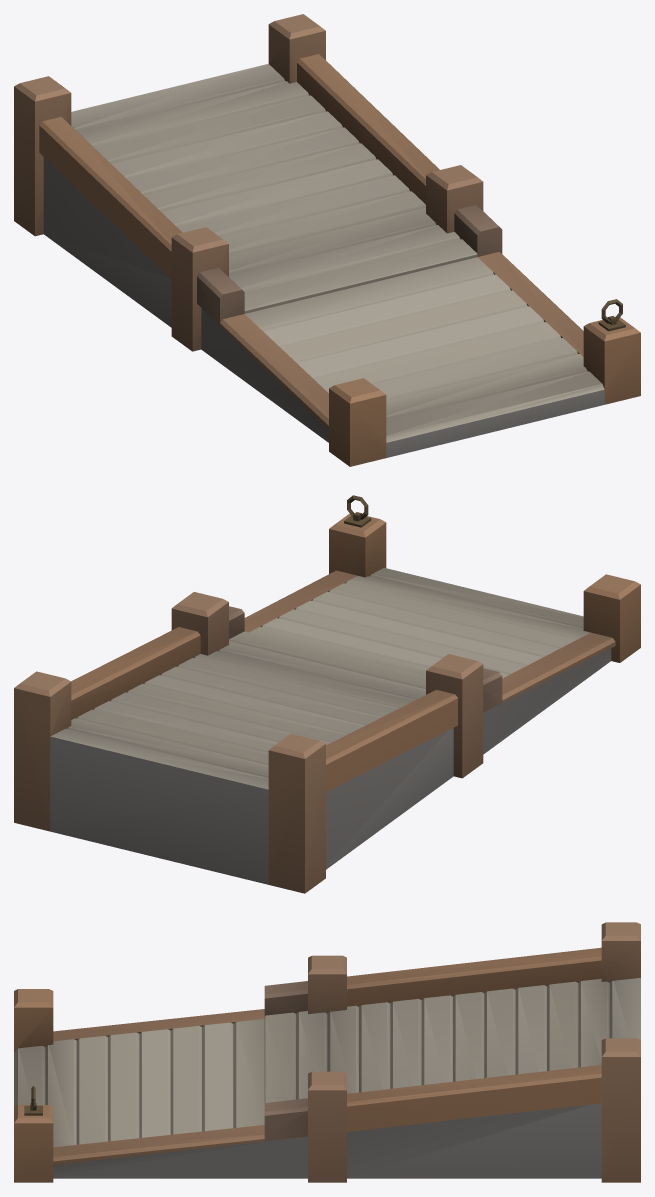
File: ramp.glb
3 renders of one model, top to bottom at view 1: azimuth 30°, elevation 25°; view 2: azimuth 150°, elevation 25°; view 3: azimuth 270°, elevation 25°, orthographic. The views are drawn at different scales.
Parts seen in each view (by area): view 1: ramp.001; view 2: ramp.001; view 3: ramp.001.
Part boxes in pixels (x1,y1,x2,y2): ramp.001: [14, 14, 640, 466]; ramp.001: [14, 495, 640, 893]; ramp.001: [14, 922, 640, 1182].
Bounding box in the file's own units: 4.8 × 2.18 × 9.6.
